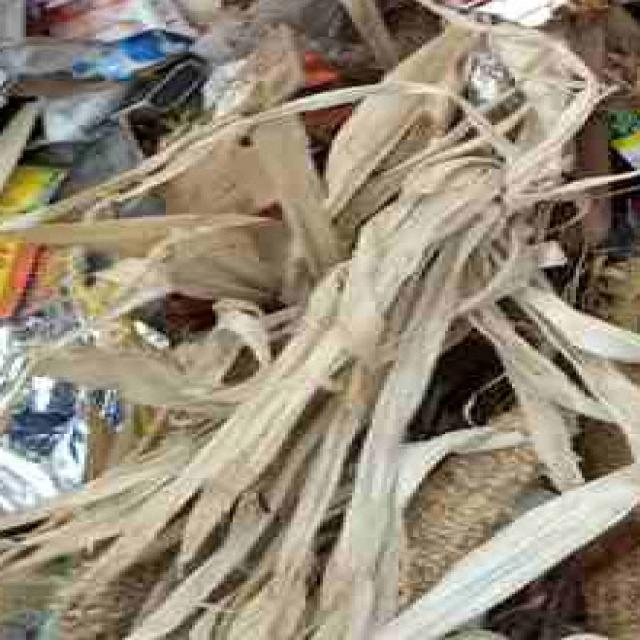biowaste: (3, 20, 640, 639)
